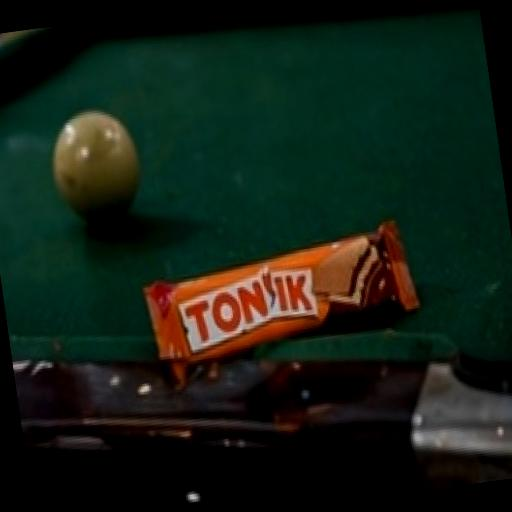tonik: (84, 96, 492, 462)
